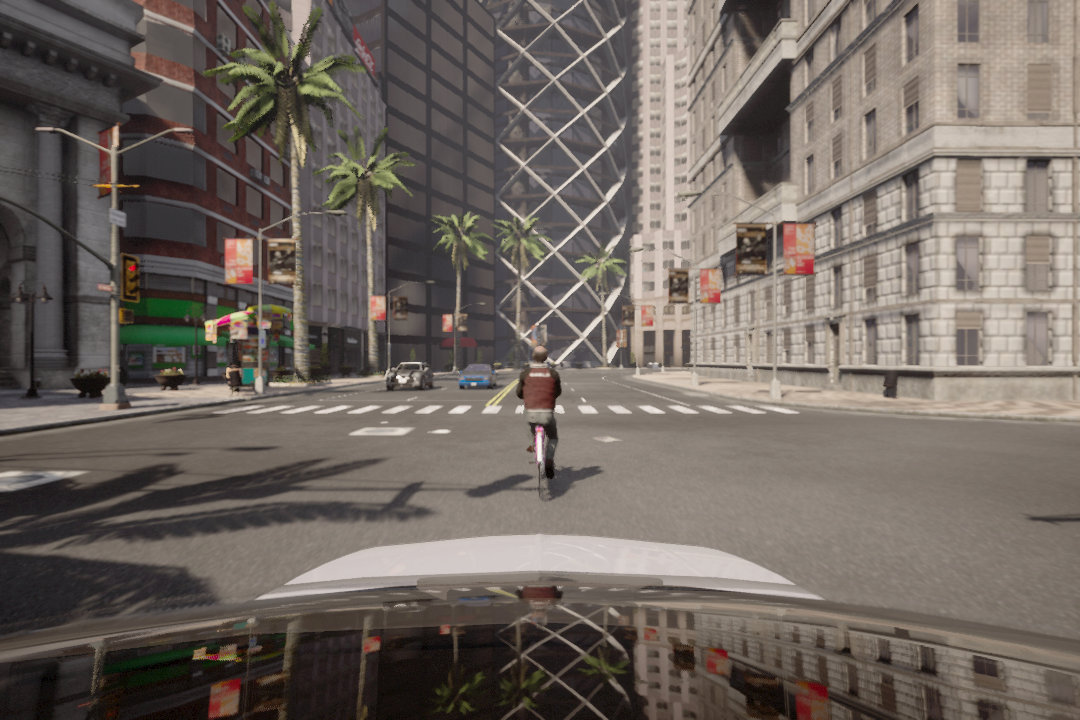TrafficLight: (121, 256, 142, 303)
walkside: (211, 399, 800, 414)
